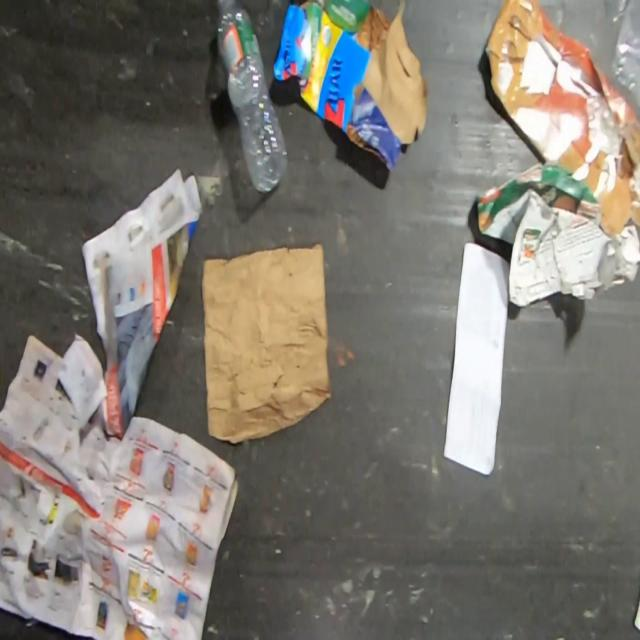cardboard: (484, 0, 640, 234), (200, 241, 333, 446), (272, 0, 429, 173), (475, 160, 640, 310)
rigid_plastic: (215, 0, 289, 195), (608, 0, 640, 126)
